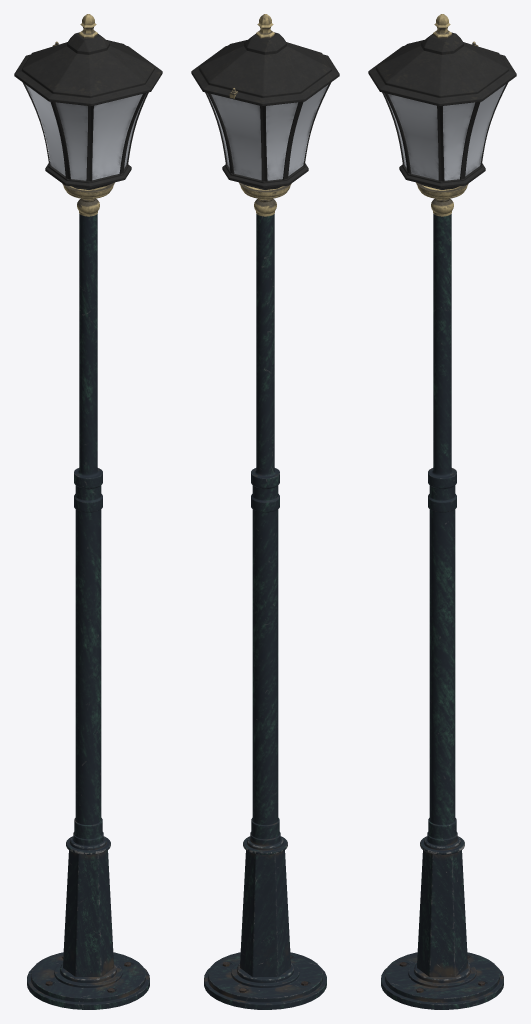
The model's file is poste.glb.
The picture shows the model from 3 angles, left to right: view 1: azimuth 30°, elevation 25°; view 2: azimuth 150°, elevation 25°; view 3: azimuth 330°, elevation 25°; orthographic projection.
Parts seen in each view (by area): view 1: StrLmp7_Post_Cylinder.092, StrLmp7_Lamp_1.4_Cube.040, StrLmp7_Lamp_1.3_Cube.041, StrLmp7_Lamp_1.2_Cube.039, StrLmp7_Stand_Cylinder.048, StrLmp7_Lamp_1.1_Cube.038; view 2: StrLmp7_Post_Cylinder.092, StrLmp7_Lamp_1.4_Cube.040, StrLmp7_Lamp_1.3_Cube.041, StrLmp7_Lamp_1.2_Cube.039, StrLmp7_Stand_Cylinder.048, StrLmp7_Lamp_1.1_Cube.038; view 3: StrLmp7_Post_Cylinder.092, StrLmp7_Lamp_1.4_Cube.040, StrLmp7_Lamp_1.3_Cube.041, StrLmp7_Lamp_1.2_Cube.039, StrLmp7_Stand_Cylinder.048, StrLmp7_Lamp_1.1_Cube.038.
Boxes of the visible parts, x1,y1,x2,y2 form: StrLmp7_Post_Cylinder.092: [27, 214, 149, 1009]; StrLmp7_Lamp_1.4_Cube.040: [14, 14, 162, 106]; StrLmp7_Lamp_1.3_Cube.041: [25, 84, 146, 180]; StrLmp7_Lamp_1.2_Cube.039: [22, 82, 148, 181]; StrLmp7_Stand_Cylinder.048: [62, 182, 114, 216]; StrLmp7_Lamp_1.1_Cube.038: [45, 162, 131, 189]; StrLmp7_Post_Cylinder.092: [204, 214, 326, 1009]; StrLmp7_Lamp_1.4_Cube.040: [191, 14, 339, 106]; StrLmp7_Lamp_1.3_Cube.041: [209, 84, 328, 180]; StrLmp7_Lamp_1.2_Cube.039: [205, 82, 331, 181]; StrLmp7_Stand_Cylinder.048: [239, 182, 291, 216]; StrLmp7_Lamp_1.1_Cube.038: [222, 163, 308, 189]; StrLmp7_Post_Cylinder.092: [381, 214, 503, 1009]; StrLmp7_Lamp_1.4_Cube.040: [368, 14, 516, 106]; StrLmp7_Lamp_1.3_Cube.041: [386, 84, 505, 180]; StrLmp7_Lamp_1.2_Cube.039: [382, 82, 508, 181]; StrLmp7_Stand_Cylinder.048: [416, 182, 468, 216]; StrLmp7_Lamp_1.1_Cube.038: [399, 163, 485, 189].
Bounding box in the file's own units: 0.286 × 2.32 × 0.2879.
Materials: 1 (1 with a texture image).
